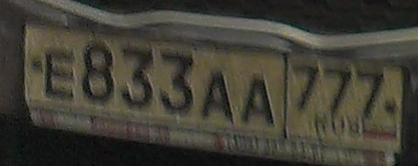character: (156, 43, 195, 116), (118, 41, 156, 110), (81, 38, 115, 109), (239, 69, 275, 134), (200, 68, 236, 128), (43, 46, 79, 101), (291, 58, 320, 118), (323, 62, 352, 117), (355, 67, 385, 119)
